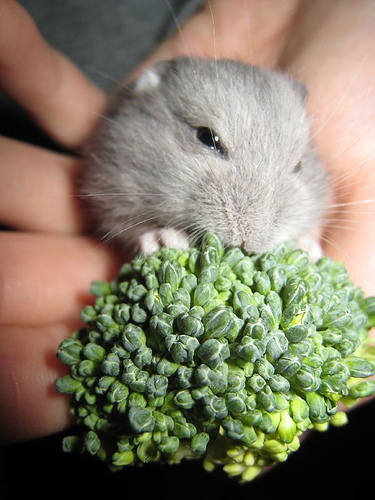broccoli: (60, 233, 373, 478)
